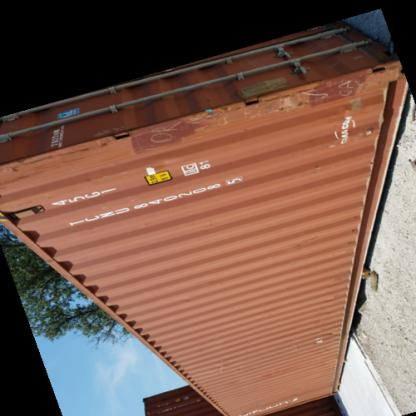Damage: (249, 62, 386, 112), (124, 119, 196, 150), (292, 321, 342, 356), (209, 352, 230, 378)
